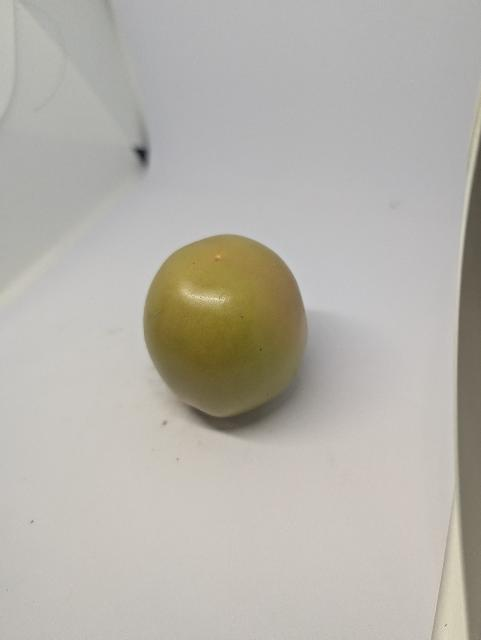breaker: (144, 235, 307, 417)
